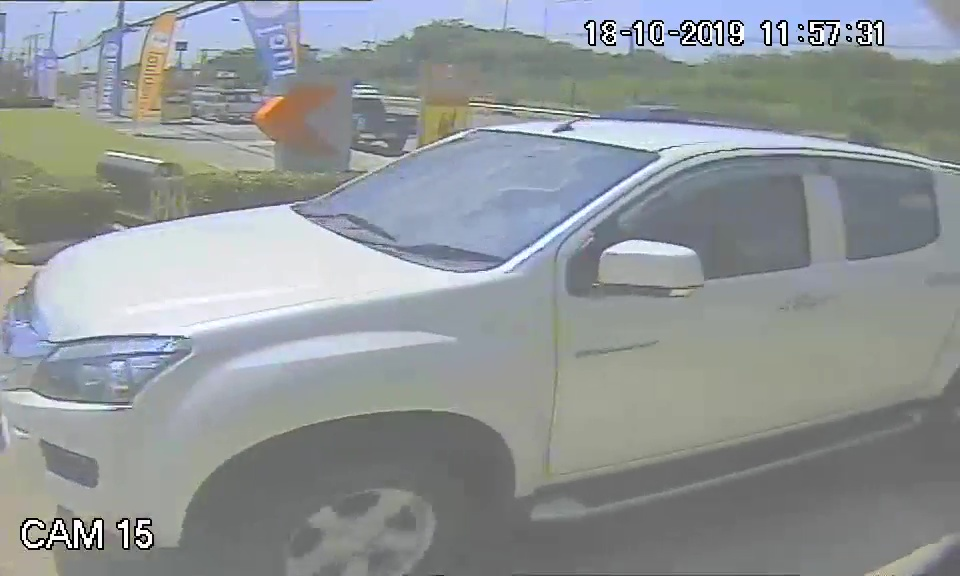pickup: (5, 118, 941, 519)
